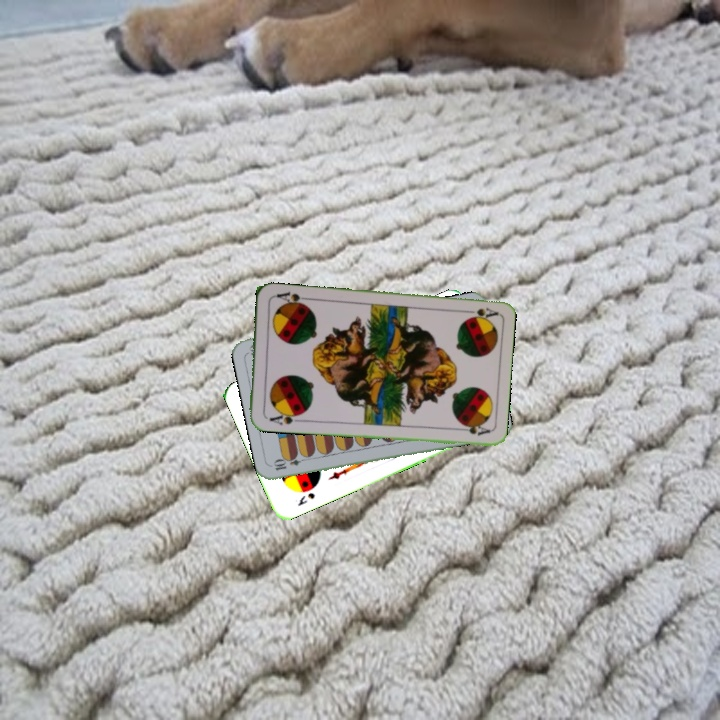E10: (270, 453, 310, 473)
SA: (265, 407, 303, 428), (459, 304, 499, 321)
SK: (294, 489, 317, 509)
